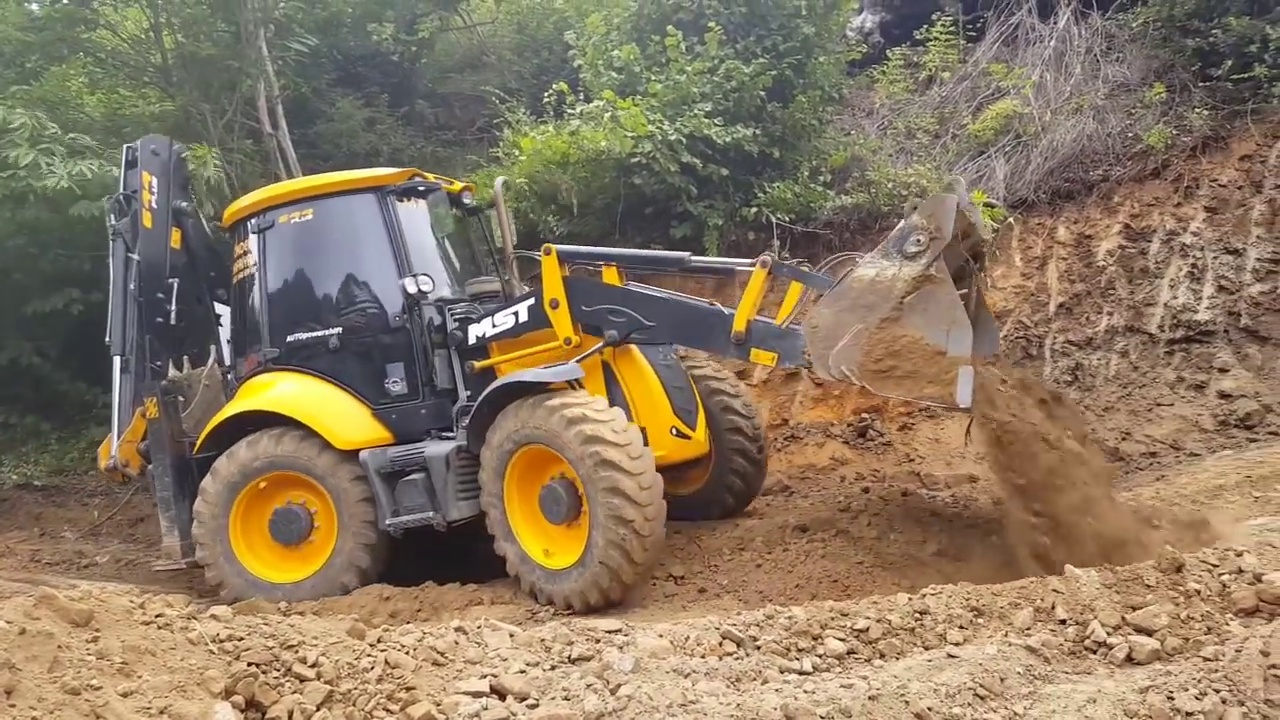wheel loader: (94, 135, 1031, 608)
